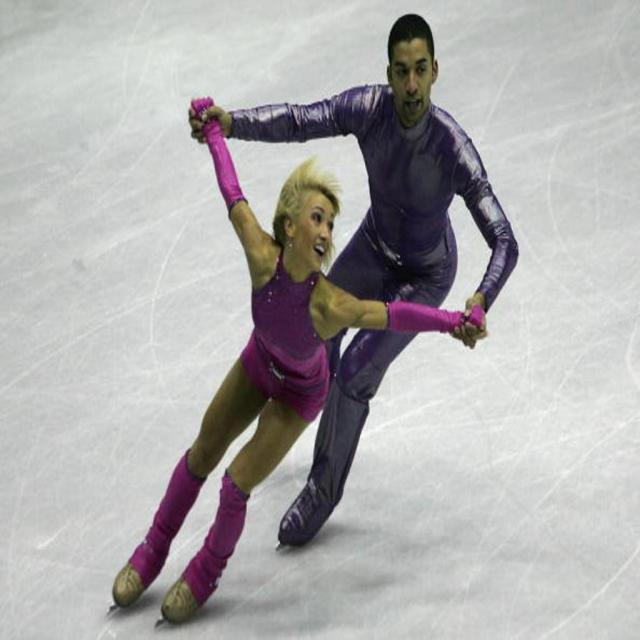Nonhelmet: (270, 156, 351, 278), (376, 10, 442, 127)
